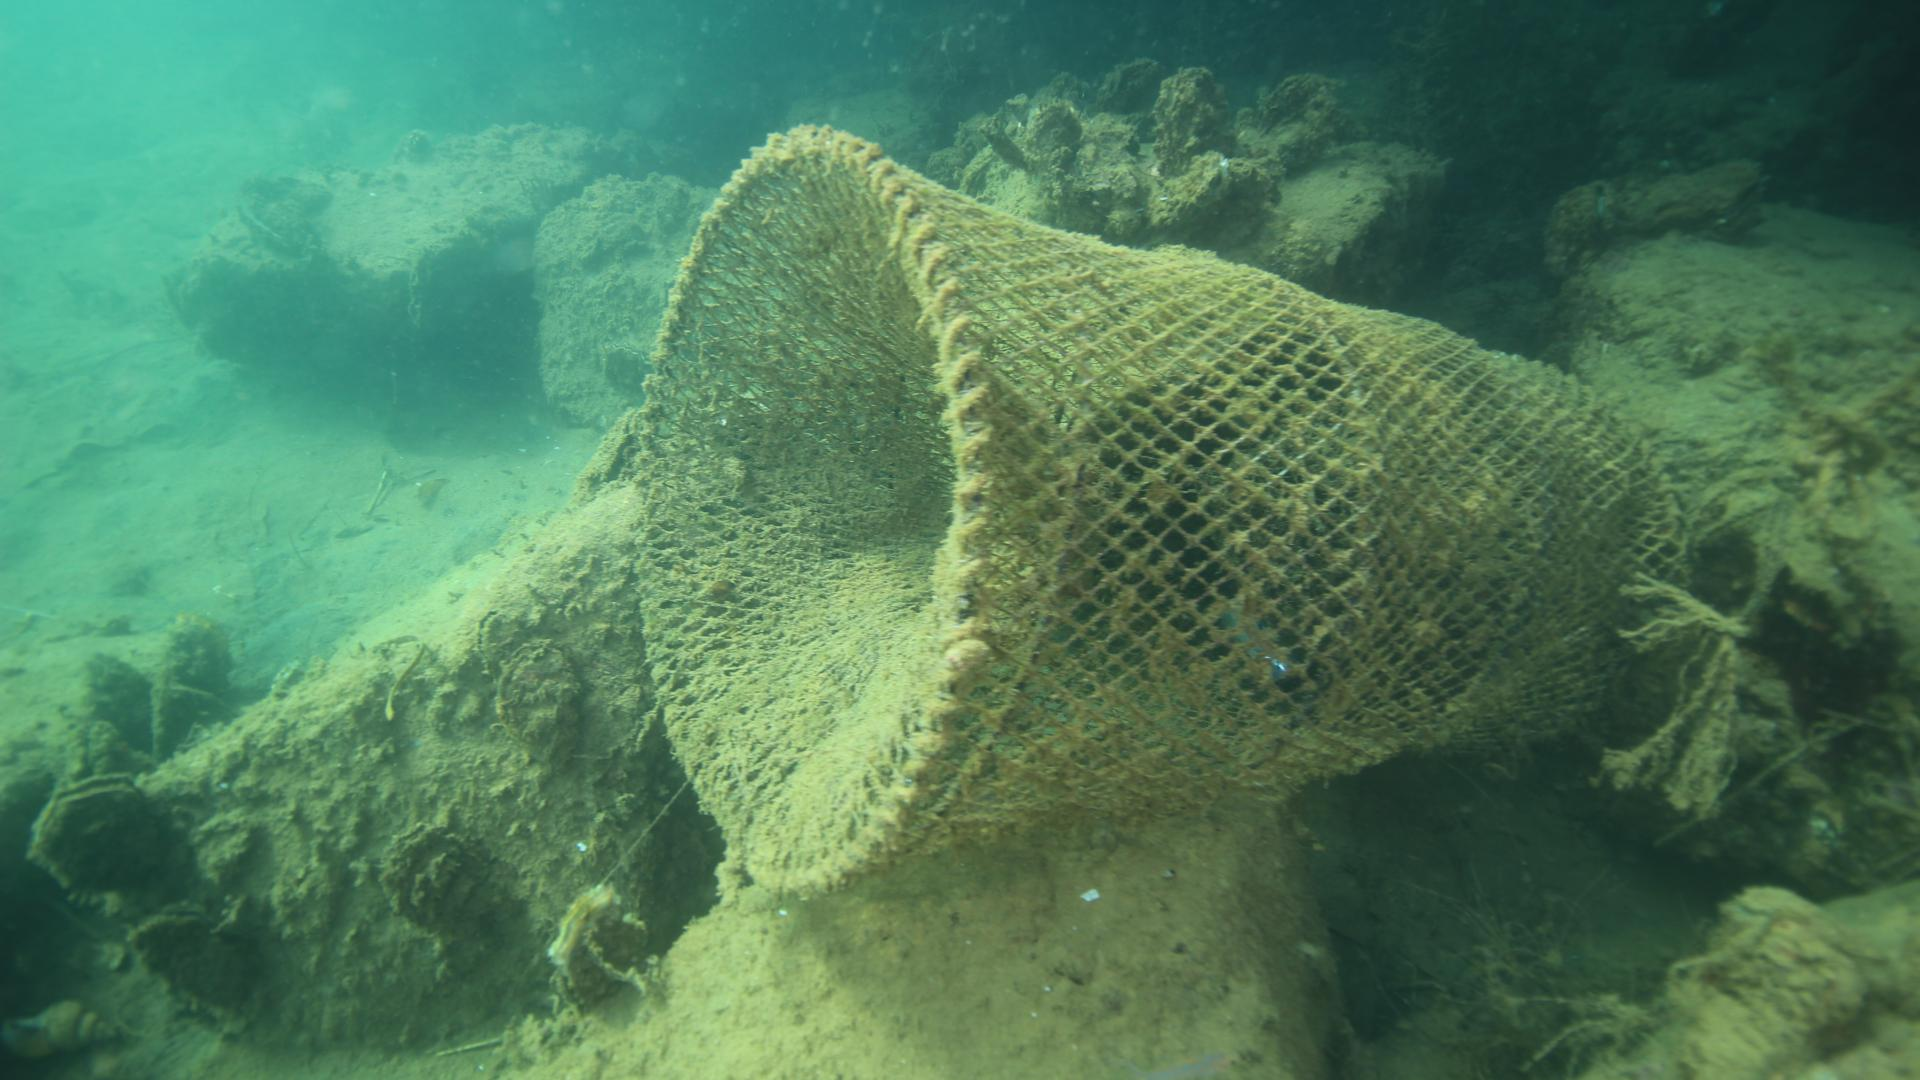bundle of ropes: (1687, 338, 1920, 626)
spring fish trap: (616, 117, 1700, 905)
